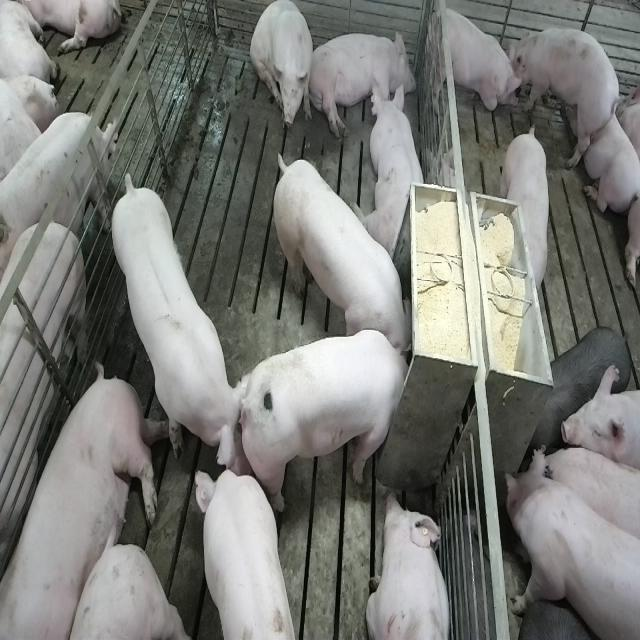Feeding: (247, 328, 419, 514), (268, 144, 412, 358)
Lateral_lying: (307, 27, 417, 140)
Sitting: (422, 0, 518, 124), (250, 2, 314, 136)
Standing: (110, 164, 252, 476), (0, 215, 89, 594), (503, 451, 638, 640), (0, 105, 114, 267), (197, 467, 300, 640), (510, 24, 620, 165), (531, 324, 635, 446), (536, 439, 637, 553), (504, 120, 554, 296), (564, 365, 640, 472)
Sternal_lying: (366, 489, 453, 640), (364, 83, 428, 262), (563, 84, 639, 213)
